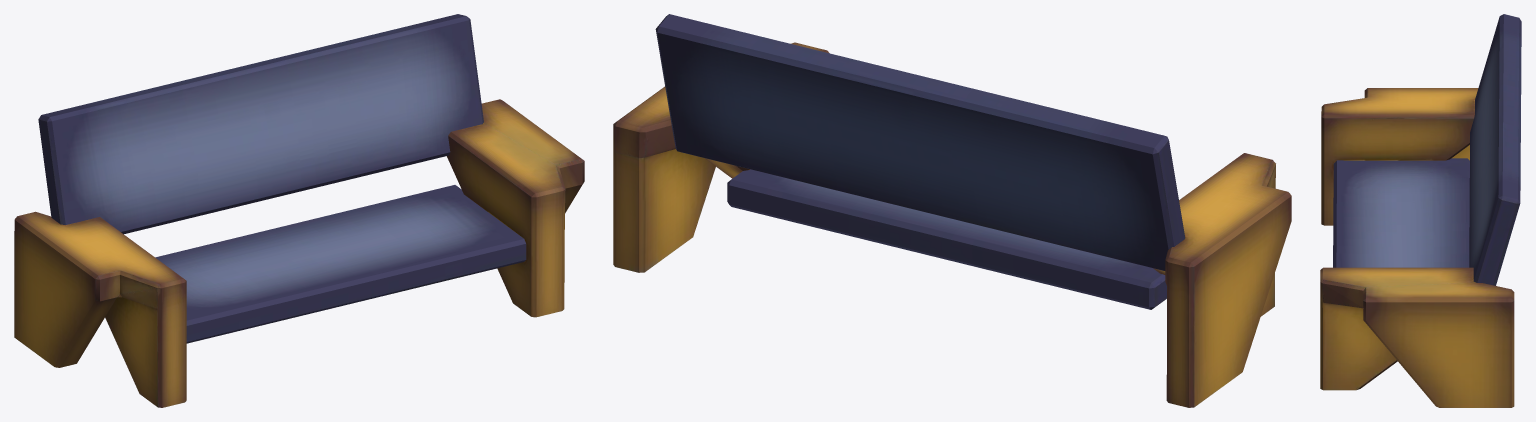
File: sofa.glb
The picture shows the model from 3 angles, left to right: view 1: azimuth 30°, elevation 25°; view 2: azimuth 150°, elevation 25°; view 3: azimuth 270°, elevation 25°; orthographic projection. The views are drawn at different scales.
Visible parts, largest first — view 1: Sofa; view 2: Sofa; view 3: Sofa.
Part boxes in pixels (x1,y1,x2,y2): Sofa: [14, 14, 584, 407]; Sofa: [613, 14, 1291, 407]; Sofa: [1320, 14, 1521, 407].
Size of the model in its own units: 3.41 by 1.46 by 1.36.
1 material, 1 textured.
